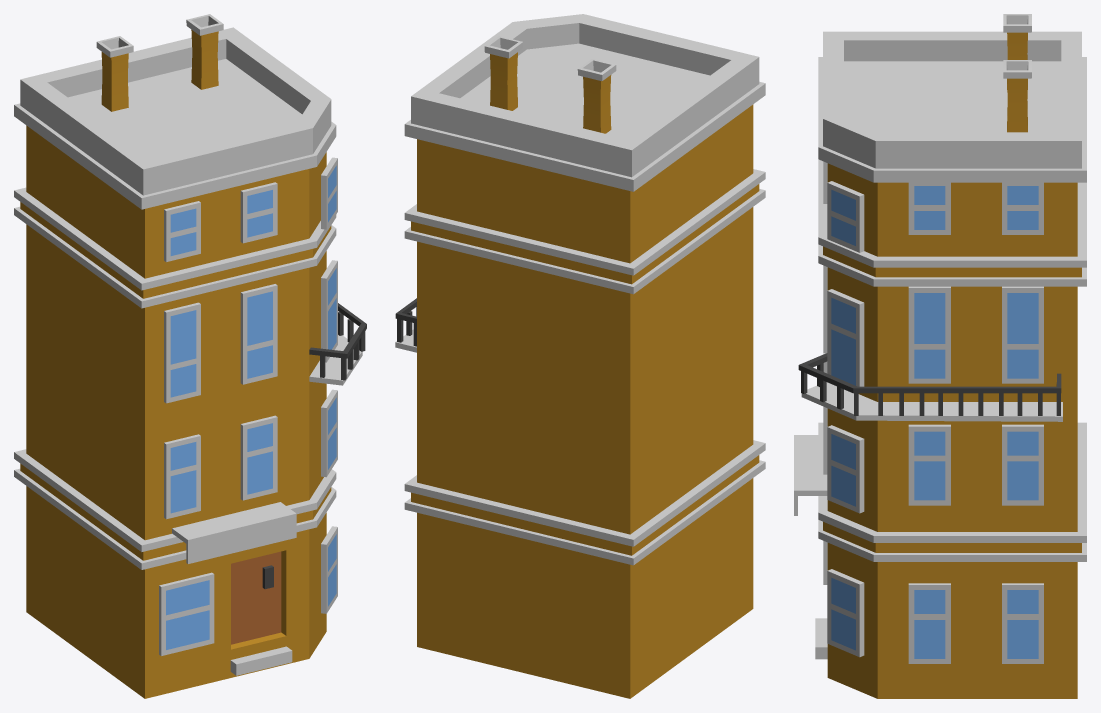
The model's file is Building 4.fbx.
3 renders of one model, left to right at view 1: azimuth 30°, elevation 25°; view 2: azimuth 150°, elevation 25°; view 3: azimuth 270°, elevation 25°, orthographic. The views are drawn at different scales.
Visible parts, largest first — view 1: Building 4; view 2: Building 4; view 3: Building 4.
Boxes of the visible parts, <box> form: Building 4: <box>14,14,366,698</box>; Building 4: <box>395,14,765,698</box>; Building 4: <box>794,14,1086,698</box>.
Size of the model in its own units: 250 by 569 by 249.
